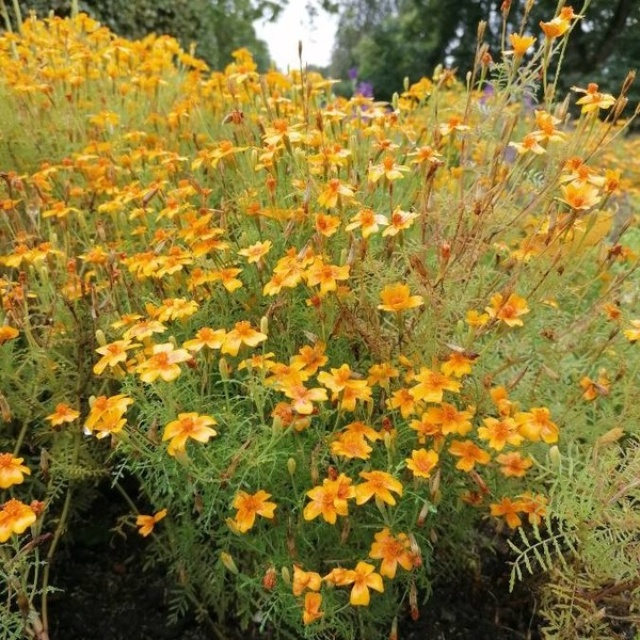obstacle: (85, 109, 484, 594)
